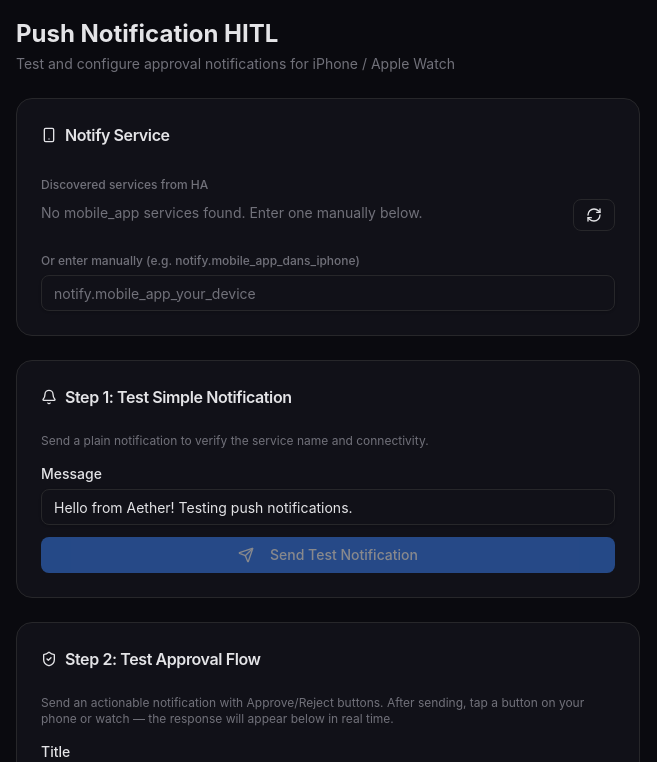
Test: HITLTestPage › sends approval notification and starts polling
This screenshot has width=657, height=762.
In the field with placeholder "notify.mobile_app_your_device": (328, 293) 41,275 -> 615,311, type "notify.mobile_app_test"
(page scrolled)
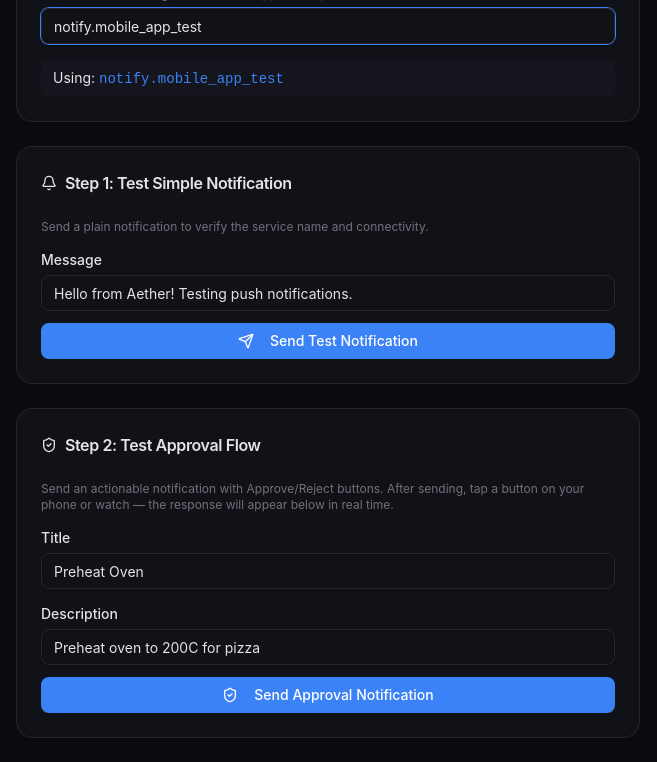
Click the button "Send Approval Notification": (328, 695) 41,677 -> 615,713
(page scrolled)
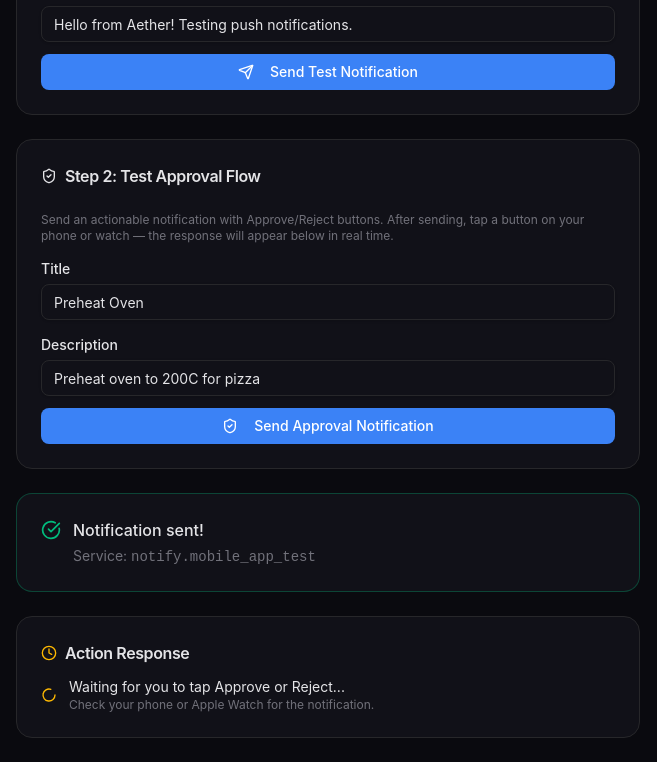
Expected: the text "Waiting for you to tap Approve or Reject..." is shown, 69,677 -> 374,697
